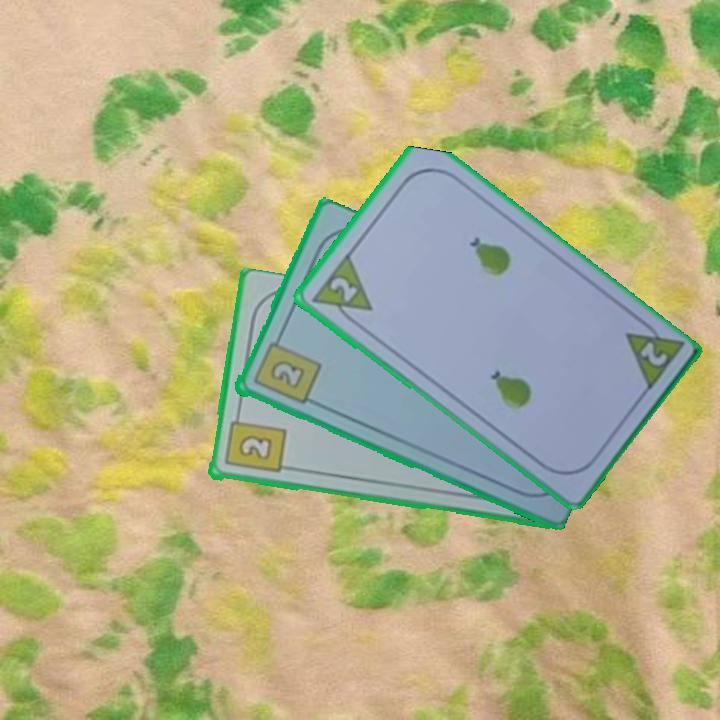2b: (249, 331, 323, 408), (221, 408, 288, 477)
2p: (307, 250, 375, 330), (636, 337, 670, 370)
